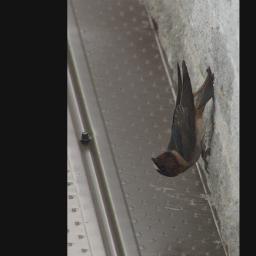Swallow: (151, 60, 217, 178)
